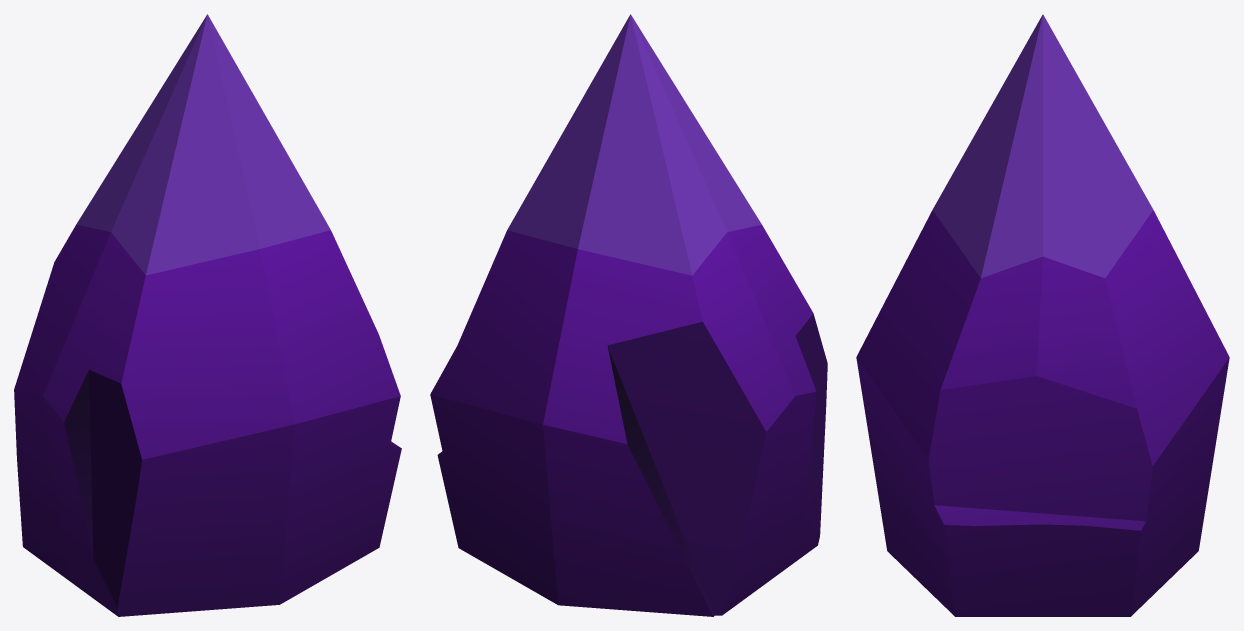
Rendered from Spike01.fbx.
The picture shows the model from 3 angles, left to right: view 1: azimuth 30°, elevation 25°; view 2: azimuth 150°, elevation 25°; view 3: azimuth 270°, elevation 25°; orthographic projection.
Parts seen in each view (by area): view 1: Spike01; view 2: Spike01; view 3: Spike01.
Boxes of the visible parts, x1=… form: Spike01: x1=14, y1=14, x2=401, y2=616; Spike01: x1=430, y1=14, x2=827, y2=616; Spike01: x1=856, y1=14, x2=1229, y2=616.
Size of the model in its own units: 35.59 by 58.41 by 36.63.
